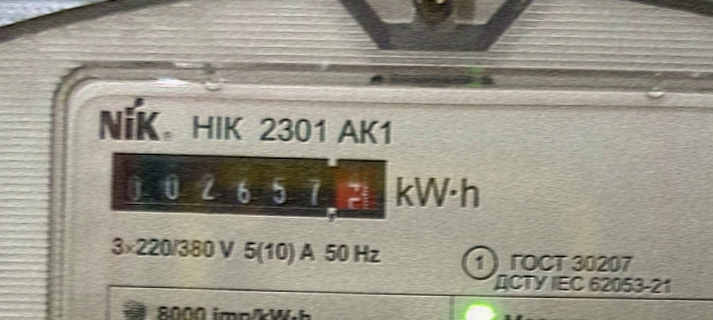0: (127, 170, 144, 199), (165, 168, 180, 199)
2: (201, 169, 217, 198)
4: (348, 164, 363, 189)
5: (272, 172, 288, 203), (348, 193, 363, 207)
6: (237, 172, 252, 202)
7: (308, 173, 323, 205)
screen: (103, 139, 399, 227)
